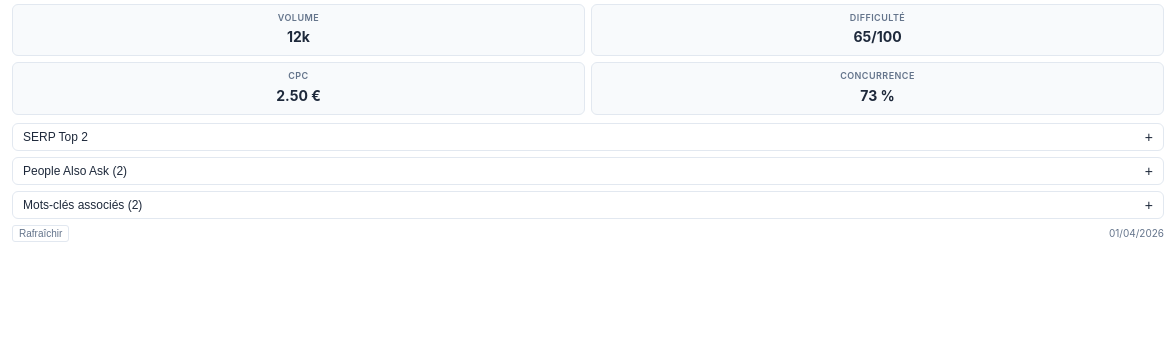
Test: SerpDataTab › expands PAA section and shows questions
Click the button with class "collapsible-header" showing "People Also Ask (2) +". click: click(75, 171)
box: 13,158 -> 1163,184
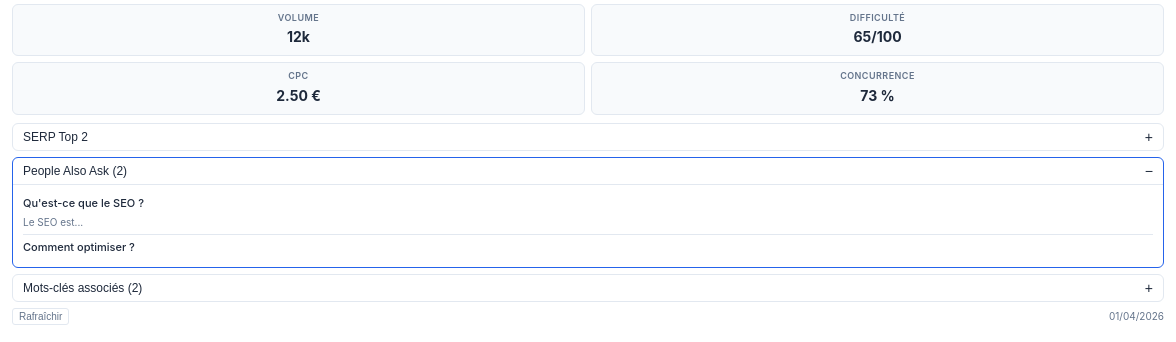
Expected: the text "Qu'est-ce que le SEO ?" is shown, 23,196 -> 144,210
Expected: the text "Le SEO est..." is shown, 23,216 -> 83,228
